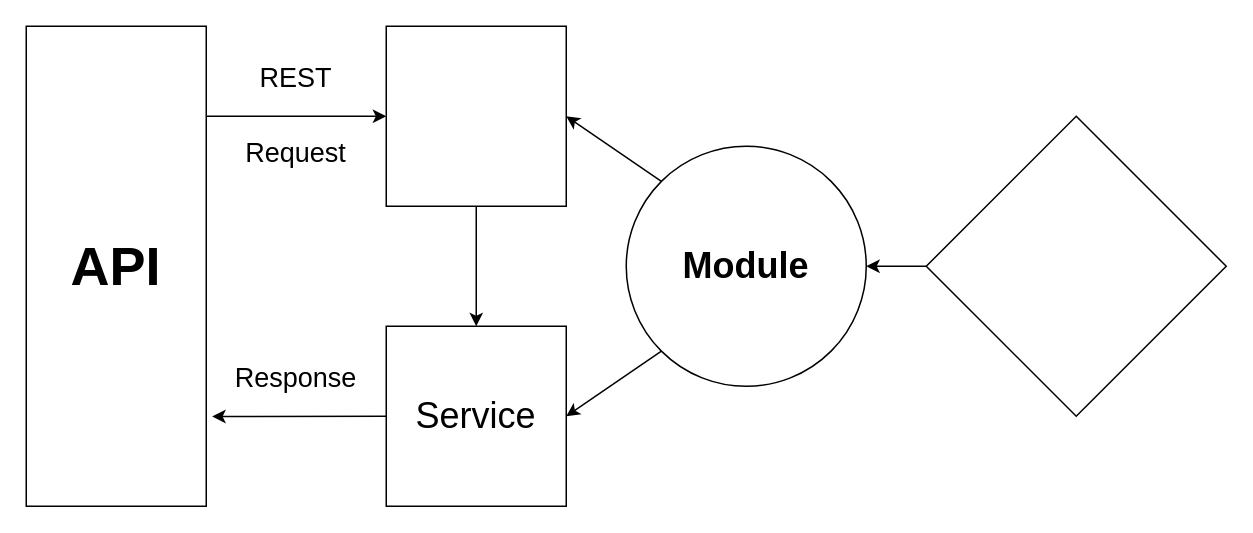
Some shapes in this 1253 by 533 pixel diagram are drawn without their labels. Each missing label, with the centre of its shape:
App Module: (1075,265)
Controller: (475,115)
